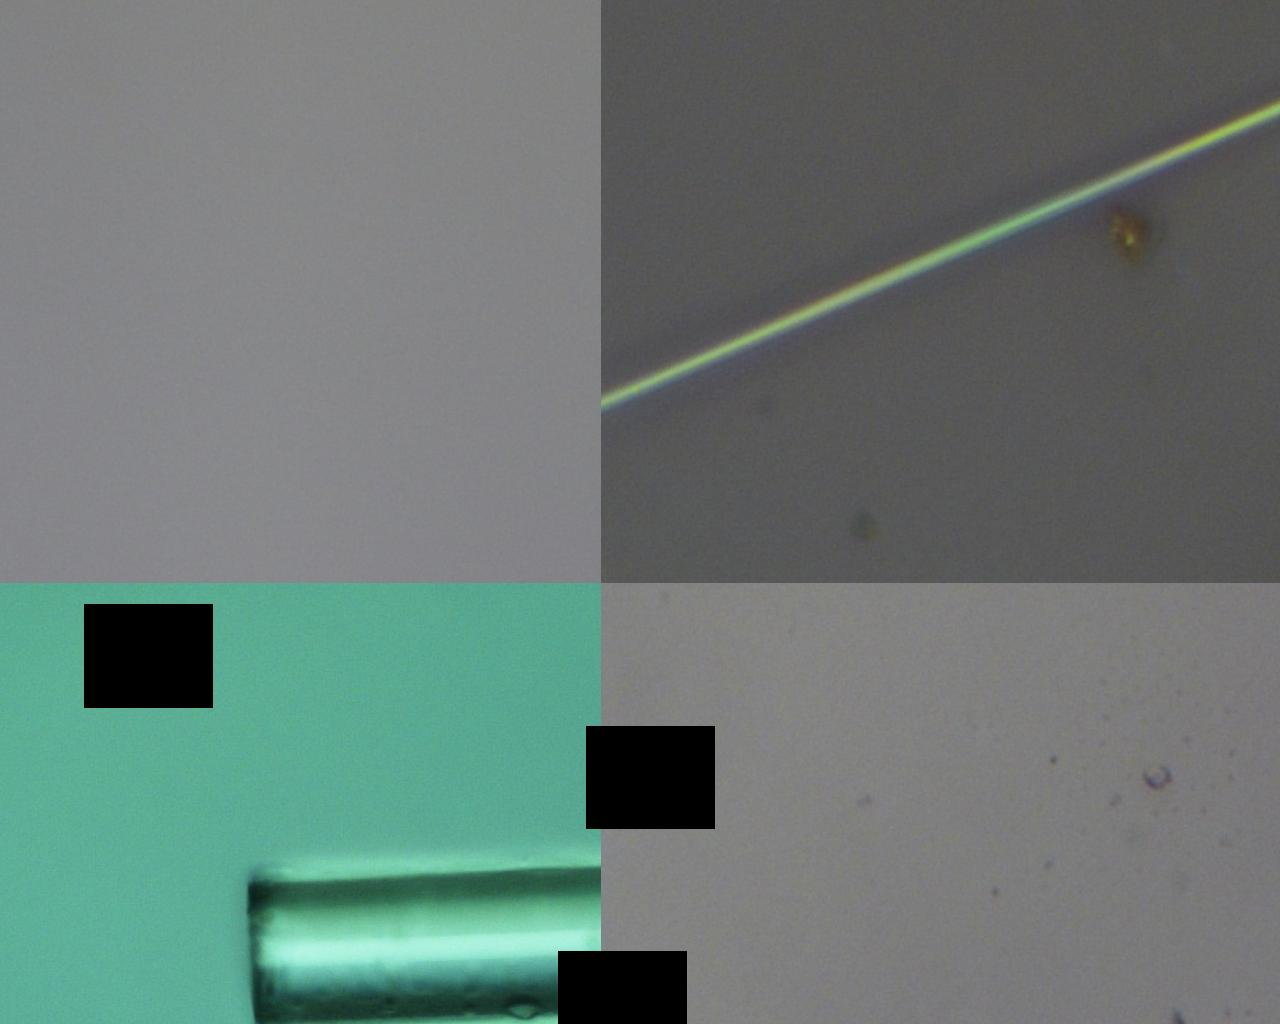fiber: (218, 0, 976, 1024)
